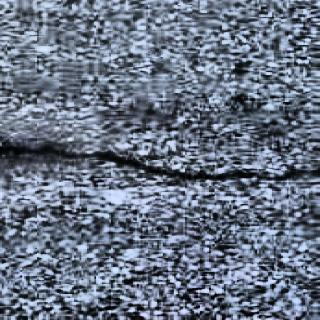crack: (7, 137, 312, 182)
